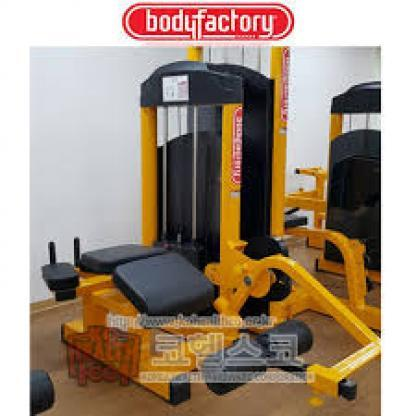reg curl machine: (37, 46, 380, 414)
